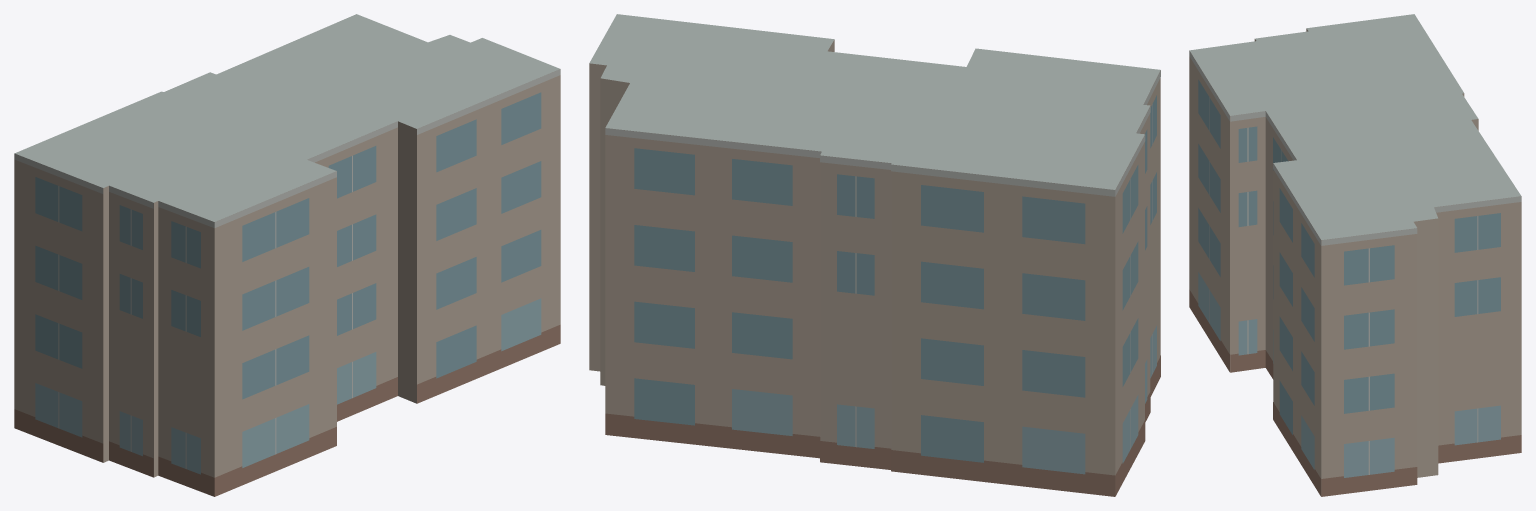
File: survey-upis-32656933.glb
3 renders of one model, left to right at view 1: azimuth 30°, elevation 25°; view 2: azimuth 150°, elevation 25°; view 3: azimuth 270°, elevation 25°, orthographic. The views are drawn at different scales.
Visible parts, largest first — view 1: survey-upis-32656933.tmp; view 2: survey-upis-32656933.tmp; view 3: survey-upis-32656933.tmp.
Part boxes in pixels (bbox=[...]): survey-upis-32656933.tmp: bbox=[14, 14, 560, 496]; survey-upis-32656933.tmp: bbox=[589, 14, 1160, 496]; survey-upis-32656933.tmp: bbox=[1189, 14, 1521, 496].
Bounding box in the file's own units: 20.61 × 10.9 × 12.79.
